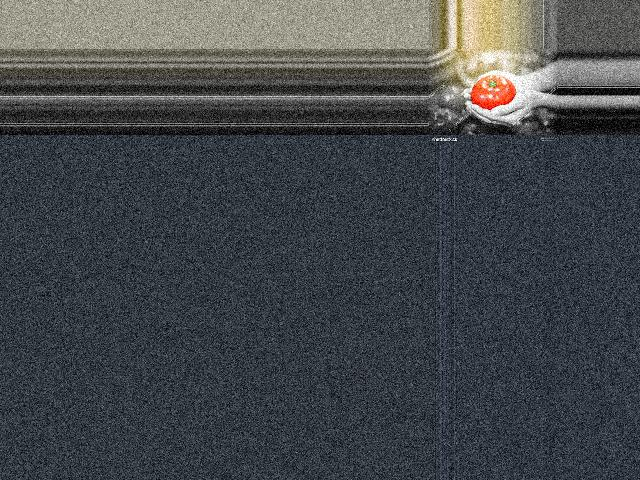tomato: (471, 75, 516, 110)
